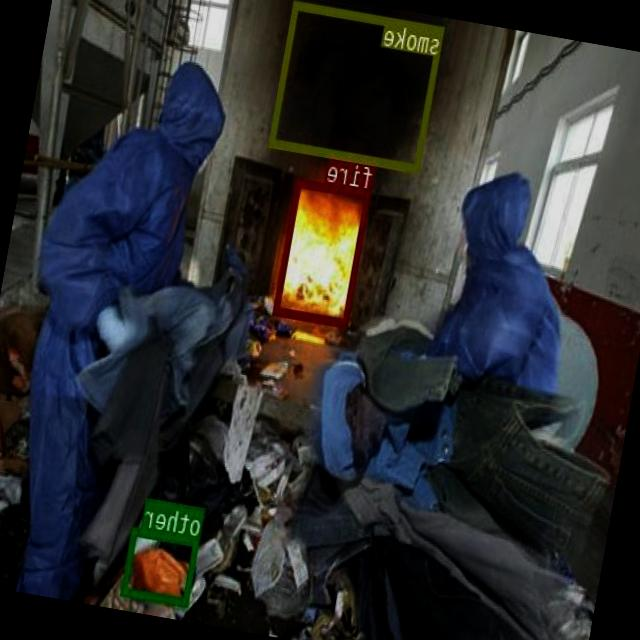fire: (274, 176, 372, 325)
smoke: (269, 0, 444, 171)
